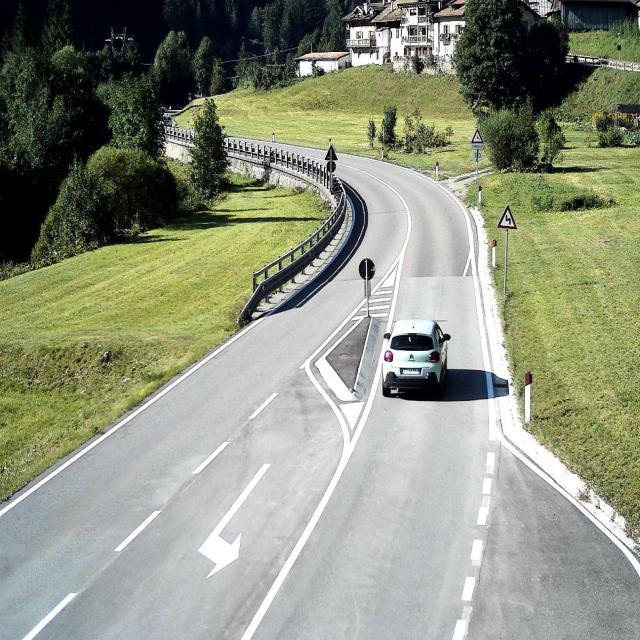car: (382, 318, 451, 396)
